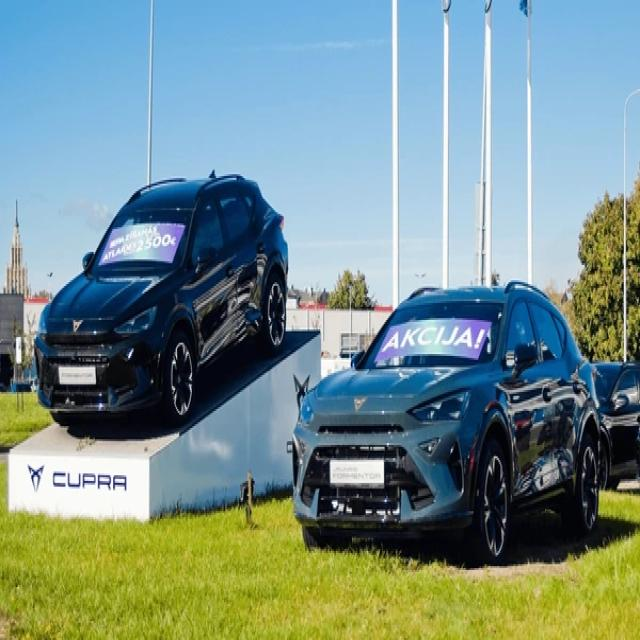cupra: (26, 462, 45, 492), (352, 390, 368, 410), (70, 318, 82, 333)
